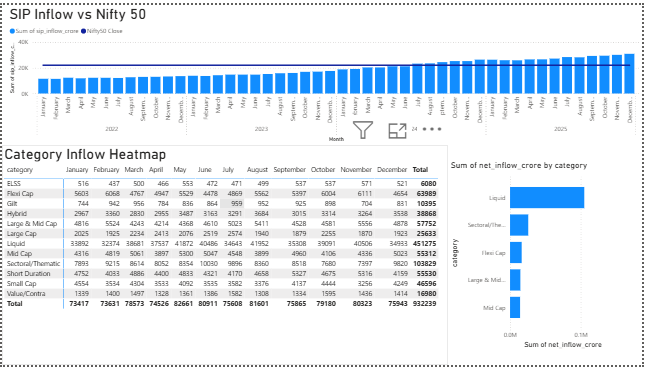

Layout of this report page (visuals, bound fields, positions):
{"tool":"powerbi","page":{"name":" SIP & Market Trends","canvas":[1280,720],"ordinal":3},"visuals":[{"type":"lineClusteredColumnComboChart","title":"SIP Inflow vs Nifty 50","fields":{"Y":["Sum(04_monthly_sip_inflows_cleaned.sip_inflow_crore)"],"Y2":["04_monthly_sip_inflows_cleaned.Nifty50 Close"],"Category":["04_monthly_sip_inflows_cleaned.month.Variation.Date Hierarchy.Year","04_monthly_sip_inflows_cleaned.month.Variation.Date Hierarchy.Month"]},"box":[10,0,1270,280],"z":0},{"type":"pivotTable","title":"Category Inflow Heatmap","fields":{"Rows":["05_category_inflows_cleaned.category"],"Columns":["05_category_inflows_cleaned.month.Variation.Date Hierarchy.Month"],"Values":["Sum(05_category_inflows_cleaned.net_inflow_crore)"]},"box":[0,280,892.5,440],"z":1},{"type":"clusteredBarChart","fields":{"Category":["05_category_inflows_cleaned.category"],"Y":["Sum(05_category_inflows_cleaned.net_inflow_crore)"]},"box":[892.5,310,355,382.5],"z":2}]}

Visuals, with their boxes in screenshot pixels (x1, y1, x2, y2), scaled from the page's 1280x720 canvas onto the 647x368 screenshot:
"SIP Inflow vs Nifty 50" lineClusteredColumnComboChart: detection(5, 0, 646, 143)
"Category Inflow Heatmap" pivotTable: detection(0, 143, 451, 367)
clusteredBarChart - 05_category_inflows_cleaned.category x Sum(05_category_inflows_cleaned.net_inflow_crore): detection(451, 158, 631, 354)
